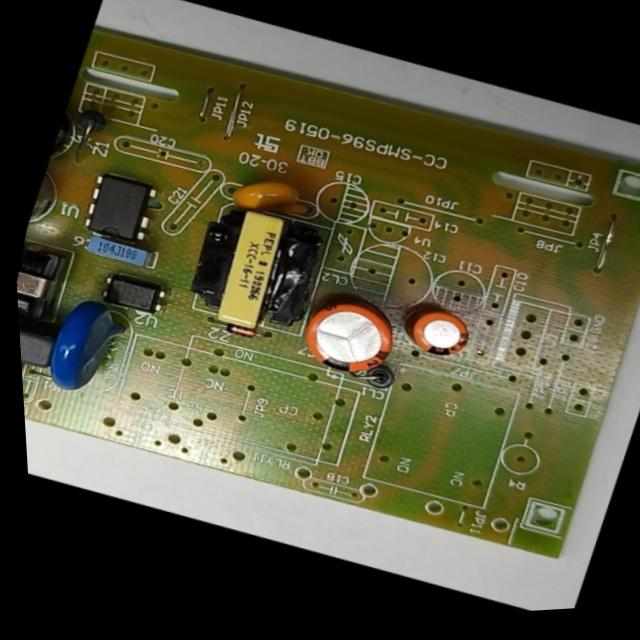Cap1: (285, 280, 413, 396)
Cap2: (398, 297, 482, 375)
MOSFET: (70, 162, 174, 261)
Mov: (30, 283, 143, 415)
Resistor: (21, 351, 34, 407)
Transformer: (171, 190, 338, 354), (15, 243, 74, 334)
